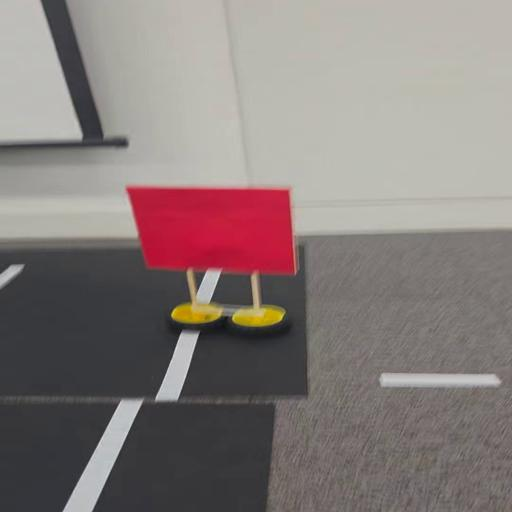Sign_A: (126, 184, 308, 341)
